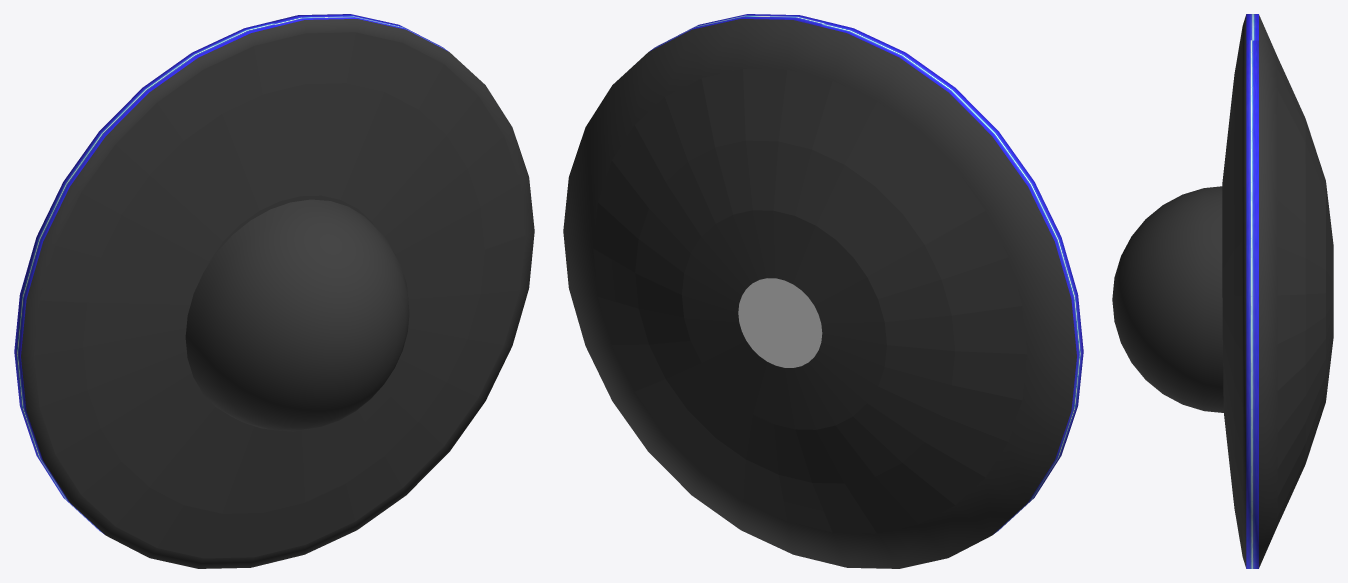
Rendered from UFO.FBX.
3 views of the same model, side by side, from view 1: azimuth 30°, elevation 25°; view 2: azimuth 150°, elevation 25°; view 3: azimuth 270°, elevation 25° (orthographic). The views are drawn at different scales.
Parts seen in each view (by area): view 1: UFO; view 2: UFO; view 3: UFO.
Boxes of the visible parts, <box> form: UFO: <box>14,14,534,568</box>; UFO: <box>563,14,1083,568</box>; UFO: <box>1112,14,1333,568</box>.
Bounding box in the file's own units: 800 × 796 × 318.
